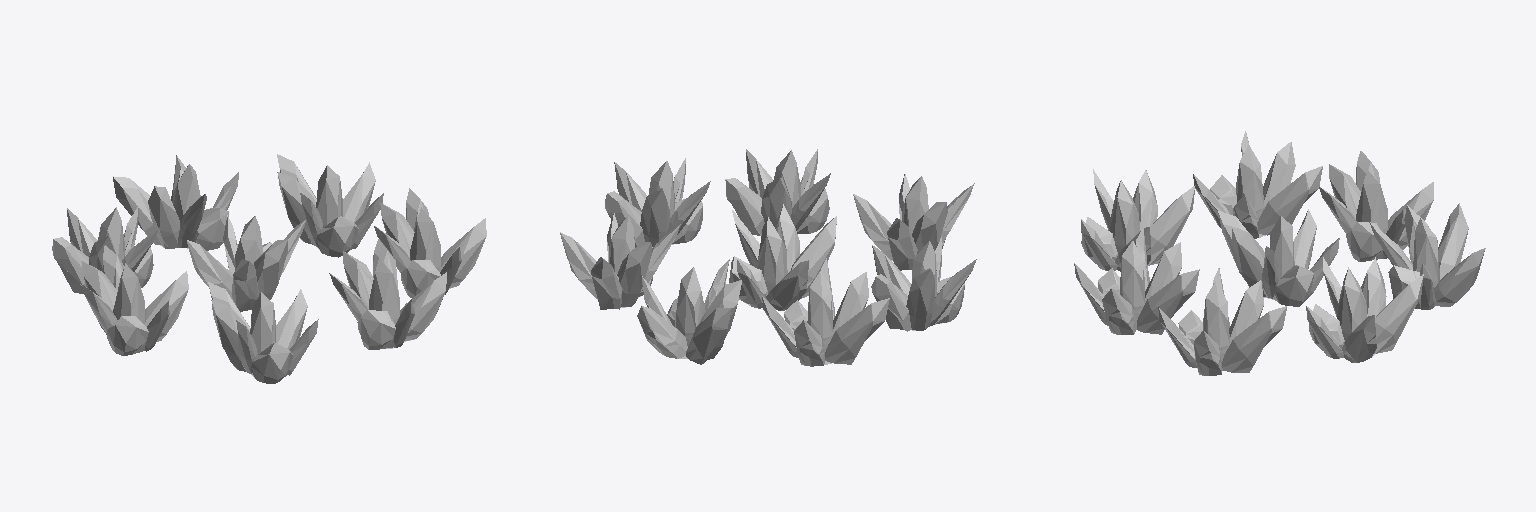
The model's file is Crystals.obj.
The picture shows the model from 3 angles: view 1: azimuth 30°, elevation 25°; view 2: azimuth 150°, elevation 25°; view 3: azimuth 270°, elevation 25°; orthographic projection.
Visible parts, largest first — view 1: Cube.013, Cube.014, Cube.015, Cube.011, Cube.010, Cube.012, Cube, Cube.016; view 2: Cube.016, Cube, Cube.010, Cube.013, Cube.015, Cube.011, Cube.012, Cube.014; view 3: Cube.011, Cube.012, Cube.013, Cube.010, Cube.015, Cube.014, Cube, Cube.016.
Boxes of the visible parts, x1=… form: Cube.013: x1=329, y1=239, x2=446, y2=349; Cube.014: x1=208, y1=282, x2=318, y2=383; Cube.015: x1=81, y1=245, x2=188, y2=355; Cube.011: x1=277, y1=154, x2=383, y2=257; Cube.010: x1=113, y1=155, x2=238, y2=250; Cube.012: x1=374, y1=188, x2=486, y2=298; Cube: x1=187, y1=215, x2=305, y2=311; Cube.016: x1=52, y1=206, x2=157, y2=293; Cube.016: x1=762, y1=258, x2=889, y2=366; Cube: x1=729, y1=204, x2=836, y2=310; Cube.010: x1=637, y1=259, x2=741, y2=364; Cube.013: x1=725, y1=149, x2=830, y2=235; Cube.015: x1=871, y1=237, x2=976, y2=331; Cube.011: x1=560, y1=213, x2=680, y2=309; Cube.012: x1=605, y1=158, x2=710, y2=247; Cube.014: x1=853, y1=174, x2=974, y2=270; Cube.011: x1=1306, y1=257, x2=1423, y2=362; Cube.012: x1=1158, y1=268, x2=1286, y2=375; Cube.013: x1=1074, y1=227, x2=1199, y2=334; Cube.010: x1=1369, y1=203, x2=1485, y2=309; Cube.015: x1=1193, y1=131, x2=1322, y2=238; Cube.014: x1=1081, y1=169, x2=1195, y2=271; Cube: x1=1218, y1=209, x2=1339, y2=306; Cube.016: x1=1319, y1=151, x2=1433, y2=261.
Size of the model in its own units: 8.83 by 1.77 by 8.2.